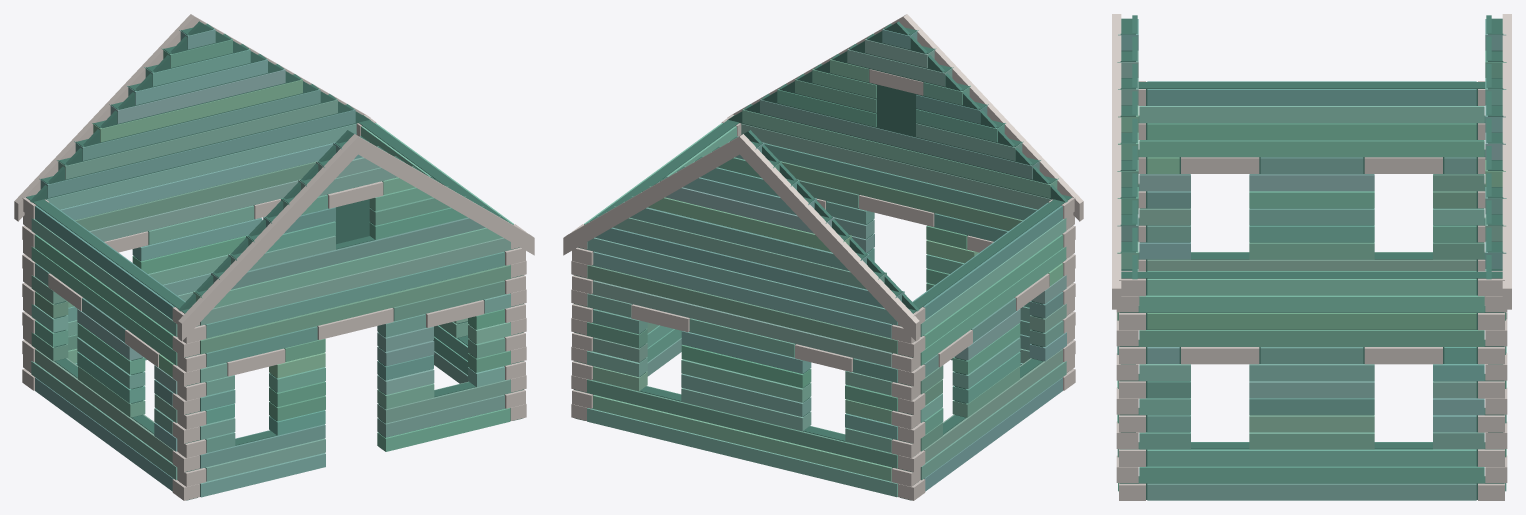
Rendered from CandyHouse_Walls.glb.
3 views of the same model, side by side, from view 1: azimuth 30°, elevation 25°; view 2: azimuth 150°, elevation 25°; view 3: azimuth 270°, elevation 25° (orthographic). The views are drawn at different scales.
Parts seen in each view (by area): view 1: CandyHouse_Walls; view 2: CandyHouse_Walls; view 3: CandyHouse_Walls.
Boxes of the visible parts, left/top/right/bottom form: CandyHouse_Walls: left=14, top=14, right=534, bottom=500; CandyHouse_Walls: left=563, top=14, right=1083, bottom=500; CandyHouse_Walls: left=1112, top=14, right=1511, bottom=500.
Bounding box in the file's own units: 23.8 × 20.97 × 19.6.
